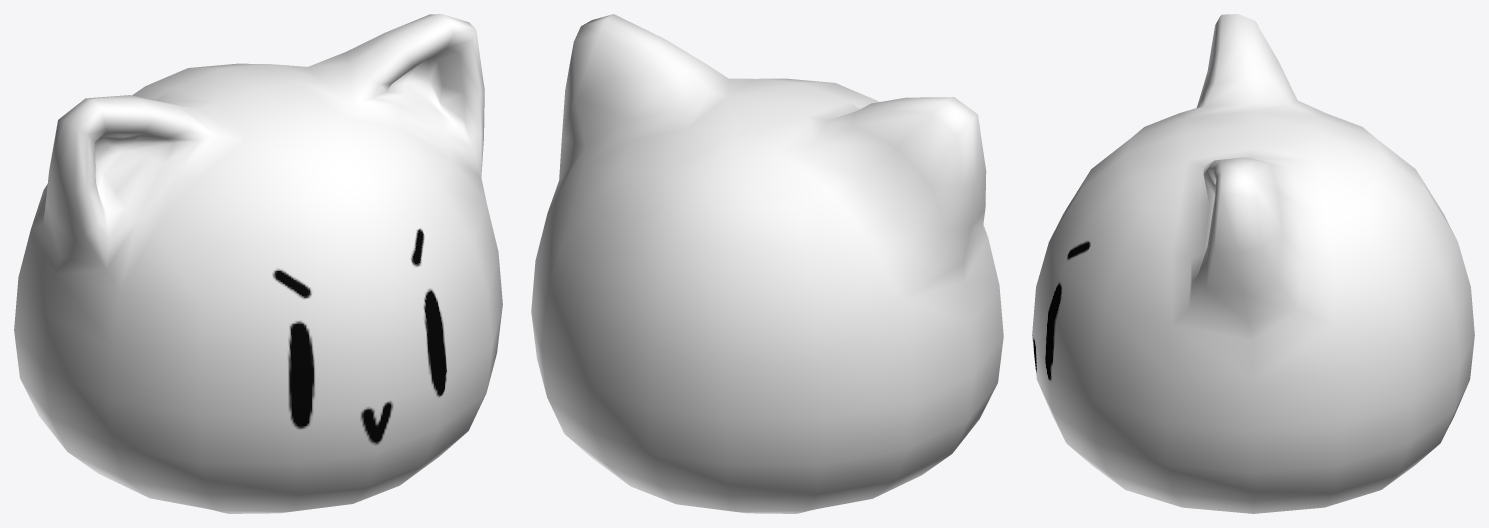
Rendered from Cat_02.fbx.
The picture shows the model from 3 angles, left to right: view 1: azimuth 30°, elevation 25°; view 2: azimuth 150°, elevation 25°; view 3: azimuth 270°, elevation 25°; orthographic projection. The views are drawn at different scales.
Parts seen in each view (by area): view 1: 立方体.015; view 2: 立方体.015; view 3: 立方体.015.
Boxes of the visible parts, bbox=[...] form: 立方体.015: bbox=[14, 14, 502, 513]; 立方体.015: bbox=[531, 14, 1003, 513]; 立方体.015: bbox=[1032, 14, 1474, 513].
Bounding box in the file's own units: 18.84 × 17.74 × 18.51.
